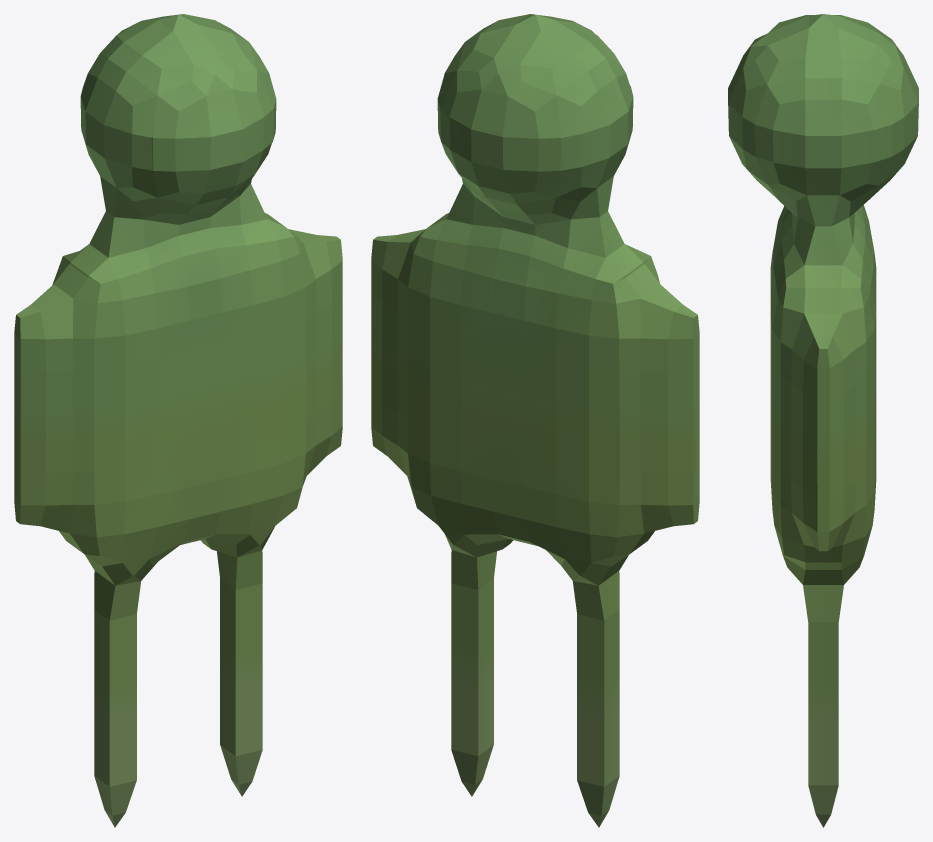
The model's file is lichSummon.glb.
3 views of the same model, side by side, from view 1: azimuth 30°, elevation 25°; view 2: azimuth 150°, elevation 25°; view 3: azimuth 270°, elevation 25° (orthographic).
Visible parts, largest first — view 1: geometry_0; view 2: geometry_0; view 3: geometry_0.
Part boxes in pixels (bbox=[...]): geometry_0: bbox=[14, 14, 342, 827]; geometry_0: bbox=[371, 14, 699, 827]; geometry_0: bbox=[728, 14, 918, 827].
Bounding box in the file's own units: 0.4226 × 1 × 0.2207.
1 material, 1 textured.
